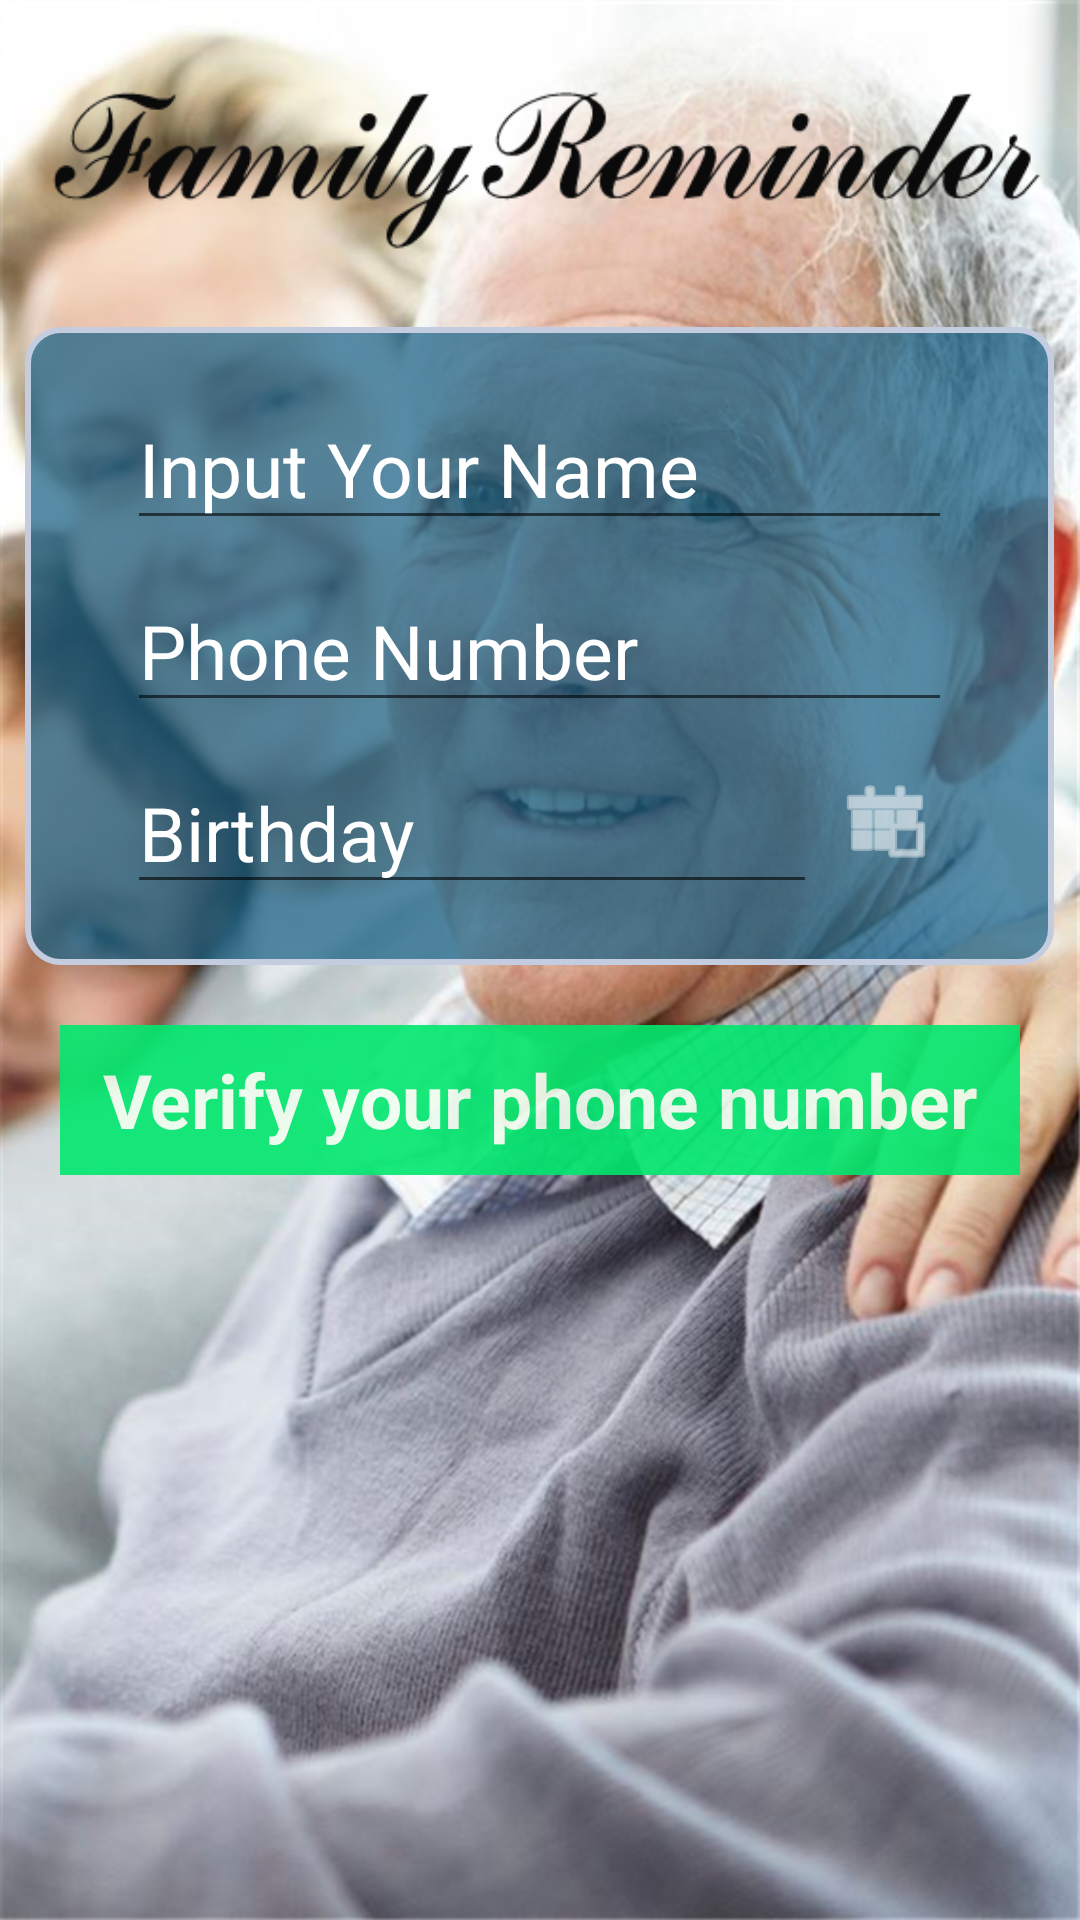

Named icons in this screenshot (1080px×1920px) and their bounding boxes, {"x1": x1, "y1": y1, "x2": x2, "y2": y2}:
today: {"x1": 847, "y1": 752, "x2": 952, "y2": 887}
